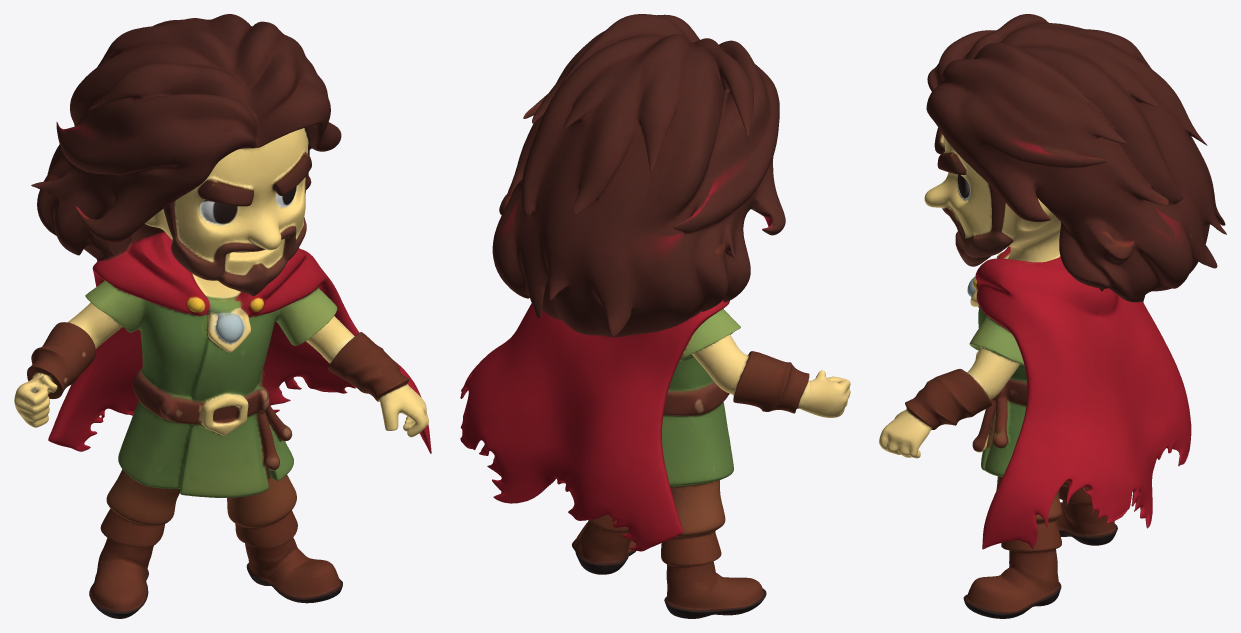
Rendered from tito_meshy.glb.
3 views of the same model, side by side, from view 1: azimuth 30°, elevation 25°; view 2: azimuth 150°, elevation 25°; view 3: azimuth 270°, elevation 25° (orthographic). The views are drawn at different scales.
Size of the model in its own units: 1.38 by 1.9 by 1.1.
Materials: 1 (1 with a texture image).
